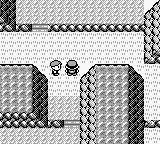main: (65, 61, 79, 76)
no-caminable: (81, 65, 144, 143), (0, 65, 48, 128), (145, 1, 159, 63), (0, 0, 16, 32)
npc: (50, 61, 62, 75)
salto: (50, 24, 144, 31), (17, 24, 32, 32), (144, 120, 159, 127), (48, 121, 64, 127)
